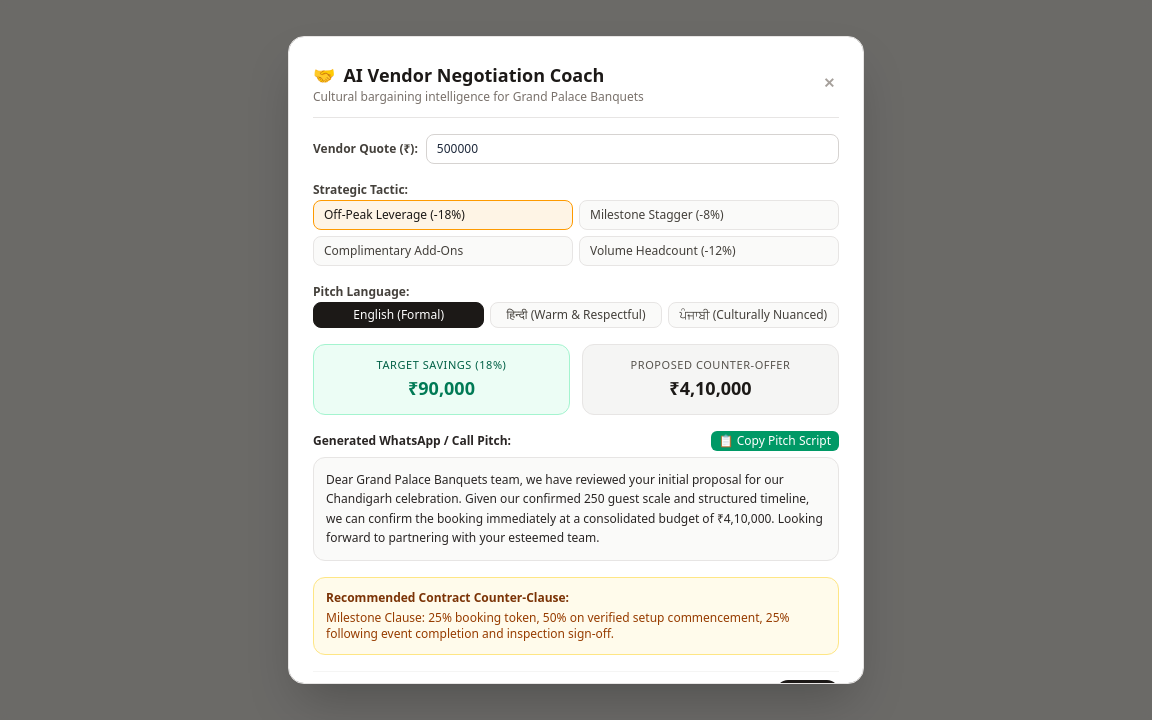
Test: NegotiationCoach Component (AC22) › switches languages when language button clicked
This screenshot has width=1152, height=720.
What coordinates should you click on to do the following:
click the button "हिन्दी (Warm & Respectful)"
I would click on:
 (576, 315)
Its box is [490,302,662,328].
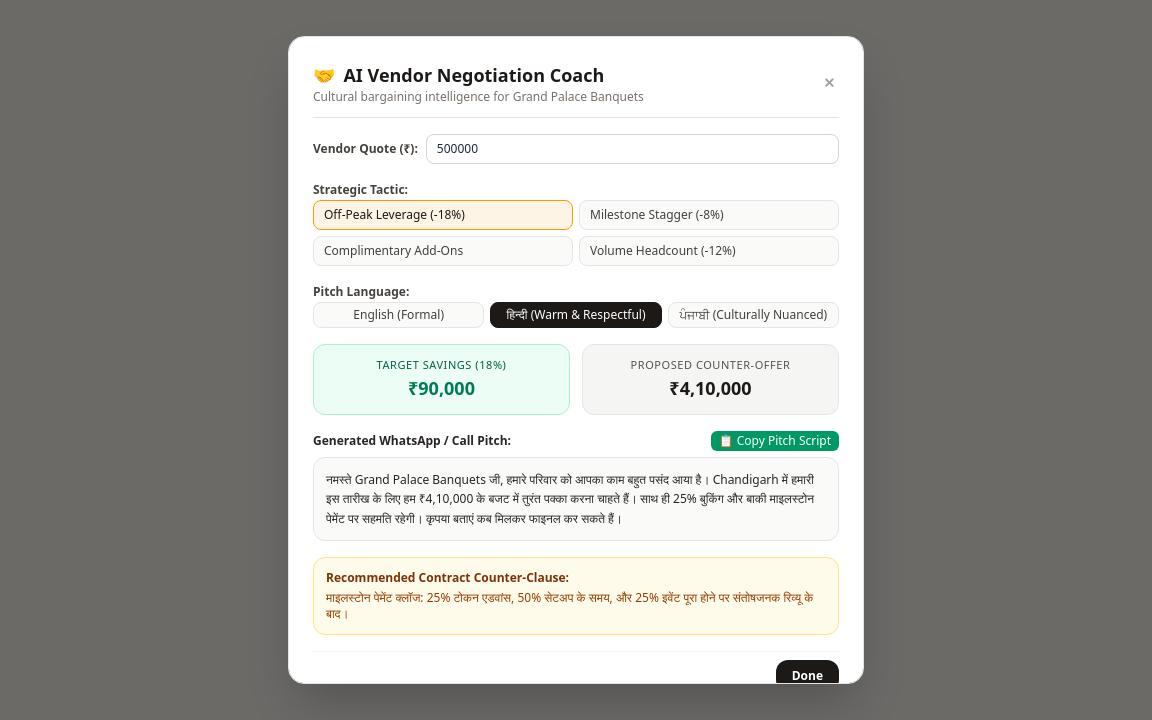
Expected: the text "नमस्ते" is shown, [326,470,814,526]
